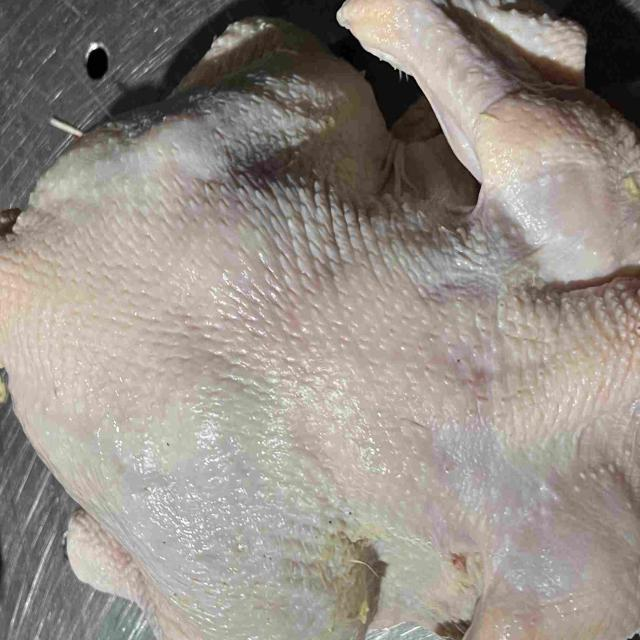back: (0, 197, 546, 535)
leg: (43, 13, 398, 208), (68, 505, 383, 640)
wing: (332, 0, 640, 301), (472, 483, 640, 640)
